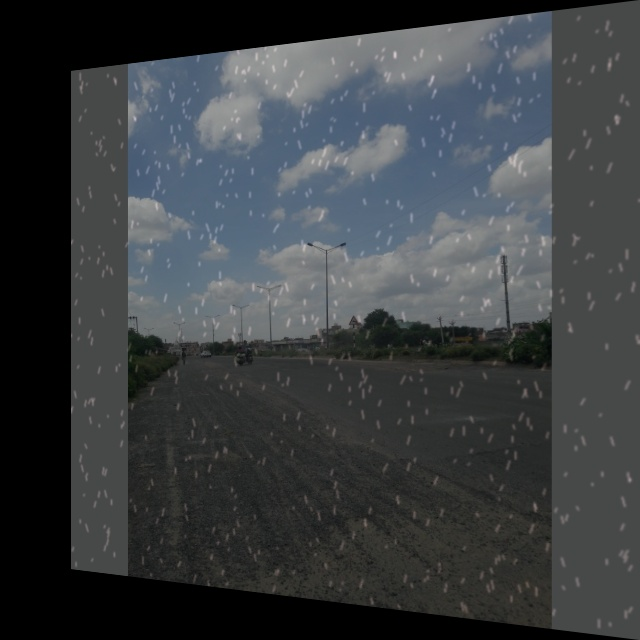Left_Hand_Curve: (346, 312, 362, 327)
